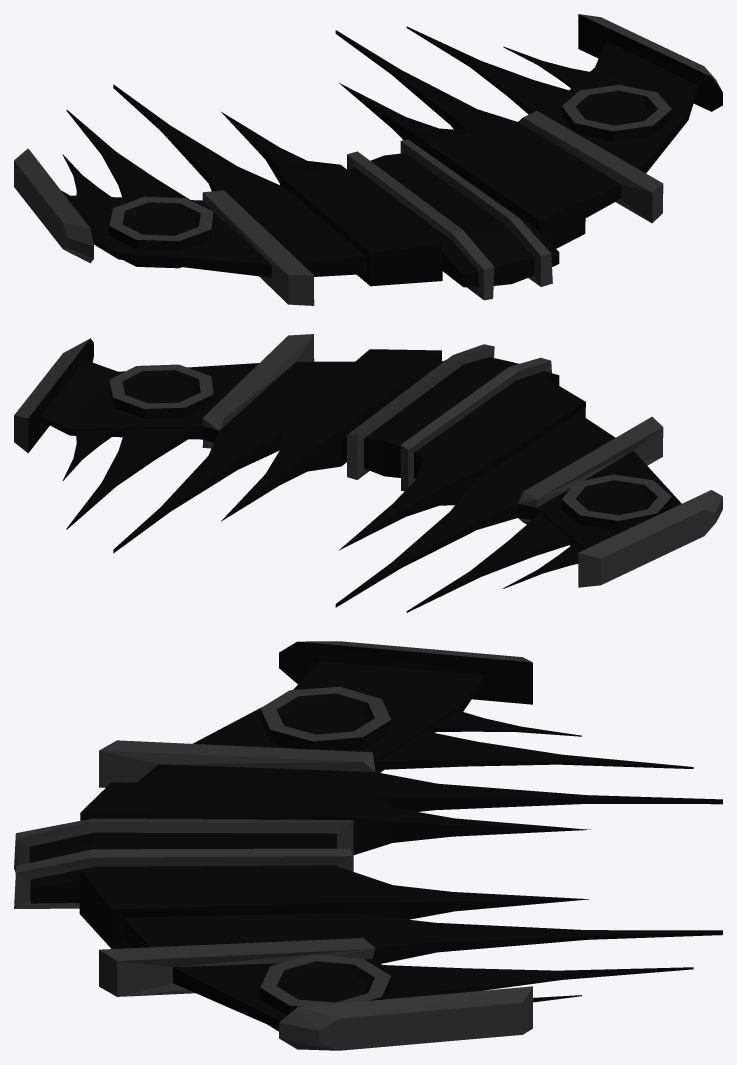
The model's file is Bat Hoverboard.fbx.
The picture shows the model from 3 angles, top to bottom: view 1: azimuth 30°, elevation 25°; view 2: azimuth 150°, elevation 25°; view 3: azimuth 270°, elevation 25°; orthographic projection. The views are drawn at different scales.
Visible parts, largest first — view 1: Box001; view 2: Box001; view 3: Box001.
Boxes of the visible parts, left/top/right/bottom form: Box001: left=14, top=14, right=722, bottom=305; Box001: left=14, top=334, right=722, bottom=612; Box001: left=14, top=641, right=722, bottom=1050.
Bounding box in the file's own units: 190 × 15.54 × 149.
1 material, 1 textured.
